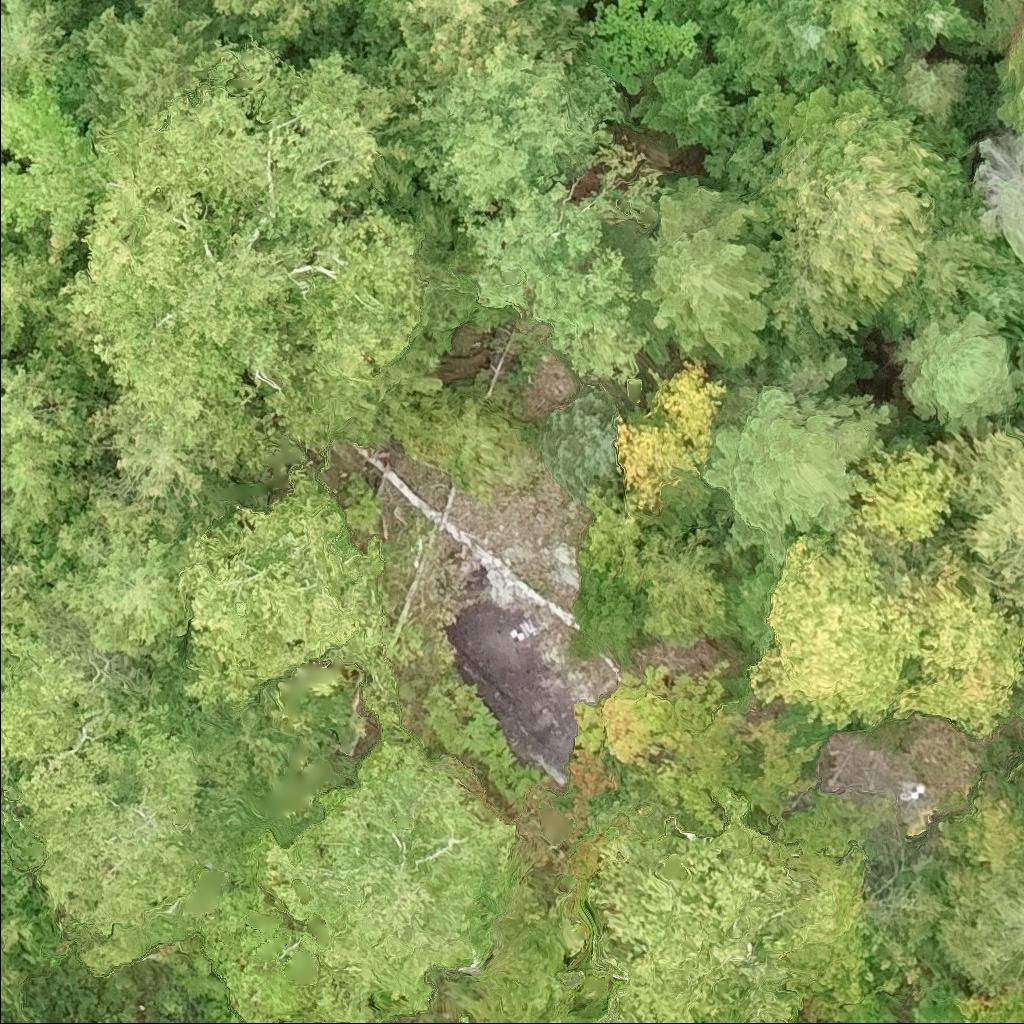crown: (63, 42, 432, 467), (255, 728, 515, 1014), (589, 788, 864, 1023), (9, 705, 206, 974), (178, 465, 386, 678), (767, 109, 948, 351), (568, 666, 819, 830), (411, 38, 628, 223), (456, 179, 652, 378), (754, 520, 923, 733), (701, 388, 893, 563), (25, 489, 191, 661), (0, 71, 146, 251), (890, 549, 1023, 737), (643, 176, 775, 356), (85, 391, 239, 533), (0, 644, 125, 796), (615, 354, 727, 517), (382, 0, 591, 82), (934, 428, 1023, 611), (399, 390, 538, 502), (84, 0, 210, 119), (934, 848, 1023, 992), (849, 440, 970, 545), (0, 346, 100, 471), (906, 312, 1013, 425), (579, 0, 703, 96), (627, 53, 738, 155), (639, 529, 726, 644), (912, 231, 1016, 322), (0, 453, 86, 550), (197, 0, 356, 52), (808, 0, 914, 74), (570, 566, 652, 661), (768, 0, 853, 89), (0, 0, 82, 90), (716, 0, 792, 96), (0, 248, 65, 351), (0, 559, 41, 692), (903, 0, 976, 52), (960, 977, 1023, 1023), (983, 265, 1023, 328), (0, 938, 28, 1018), (600, 988, 645, 1023), (996, 85, 1023, 132), (1011, 22, 1023, 89), (1017, 695, 1023, 713)
